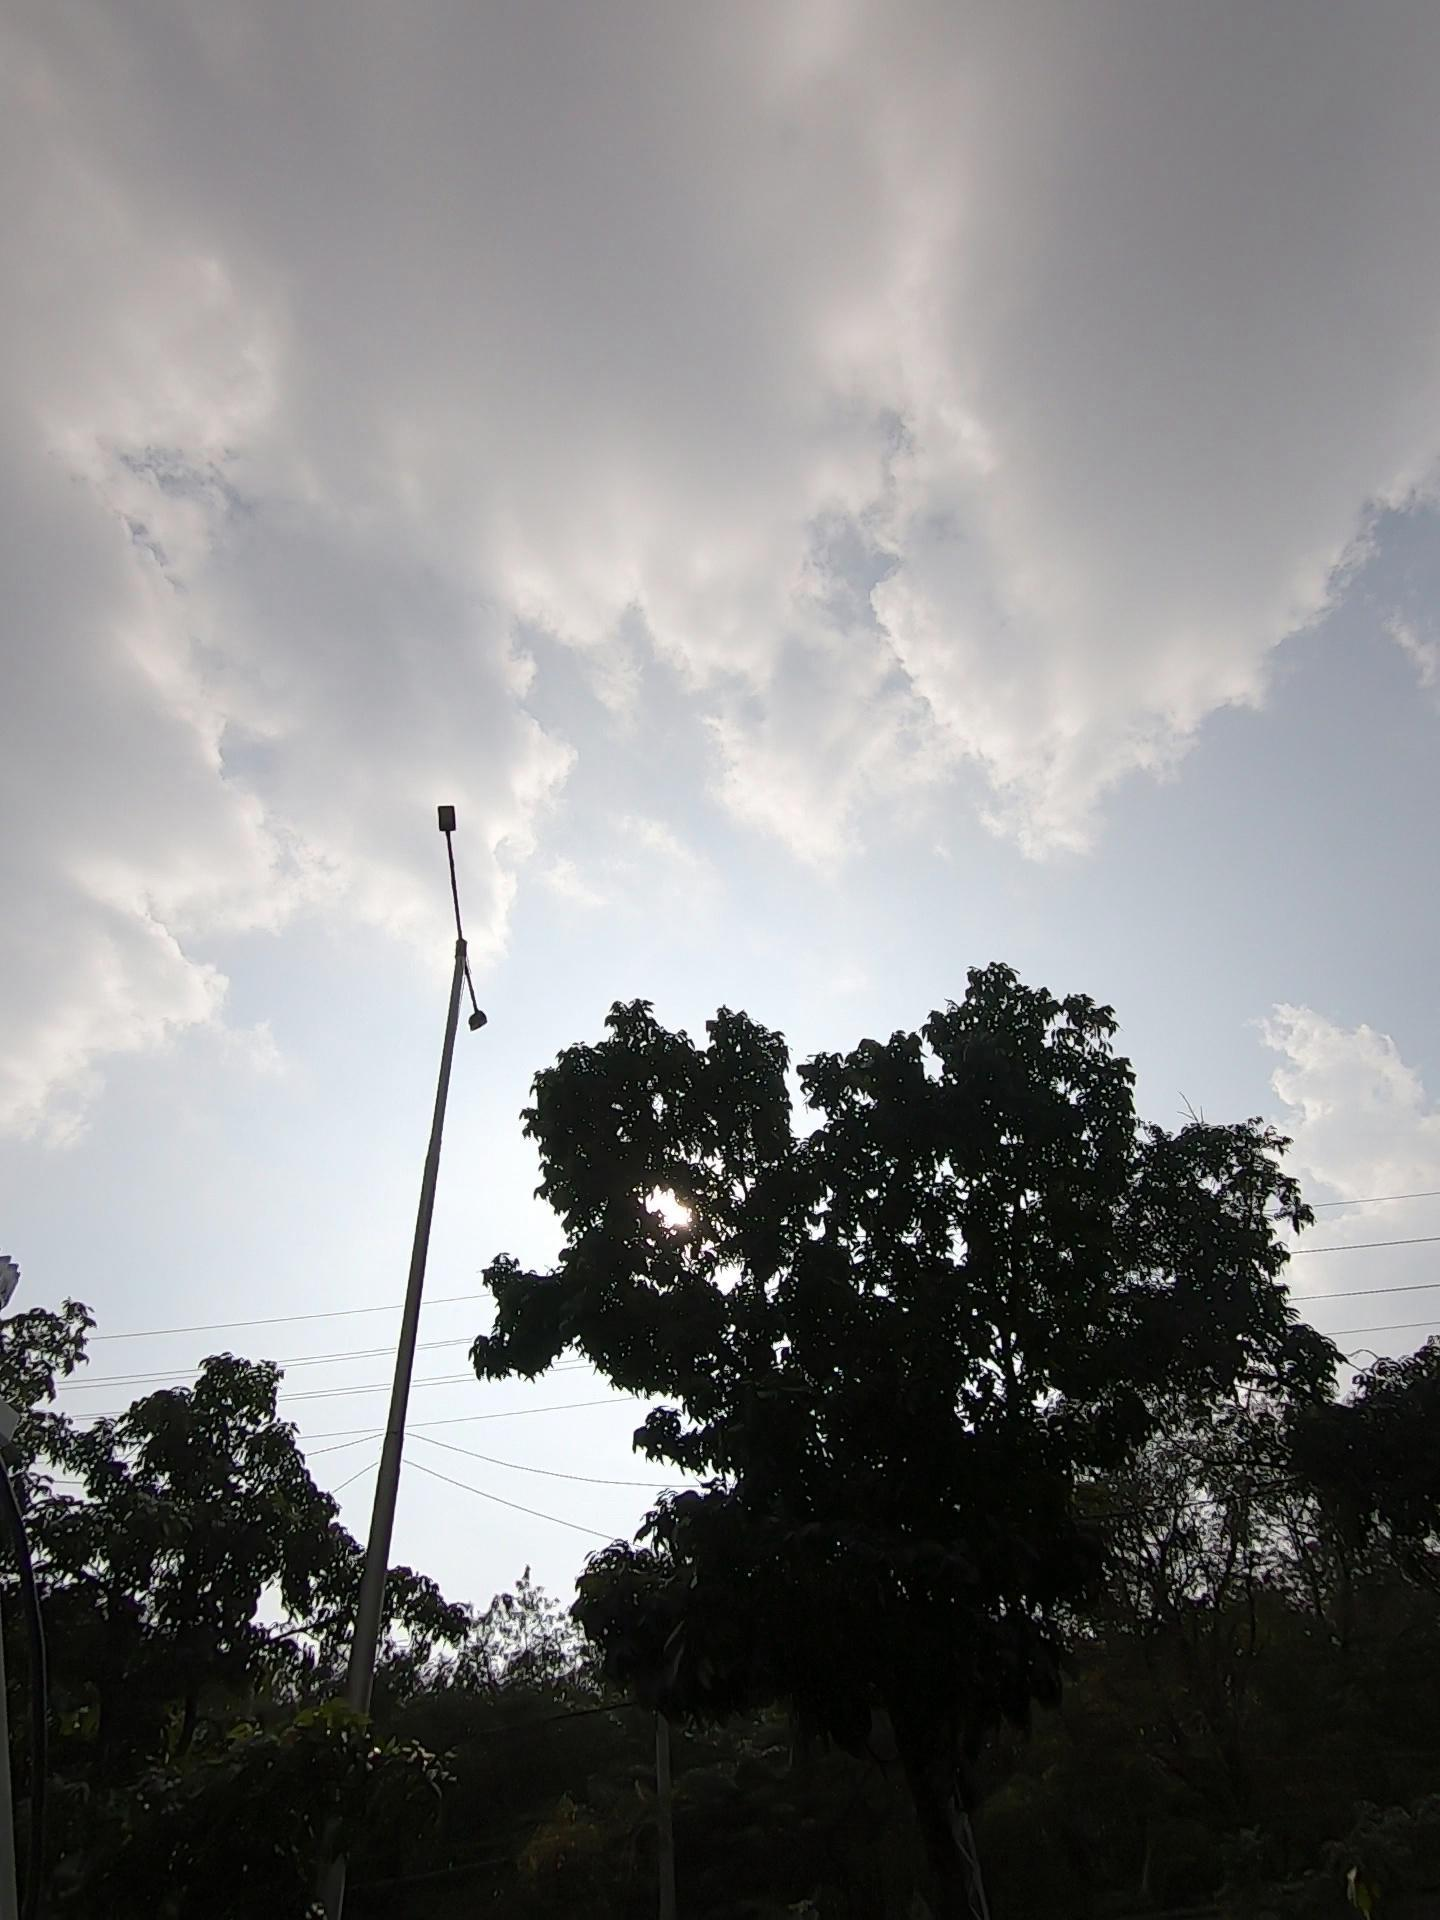off: (380, 751, 667, 1123)
